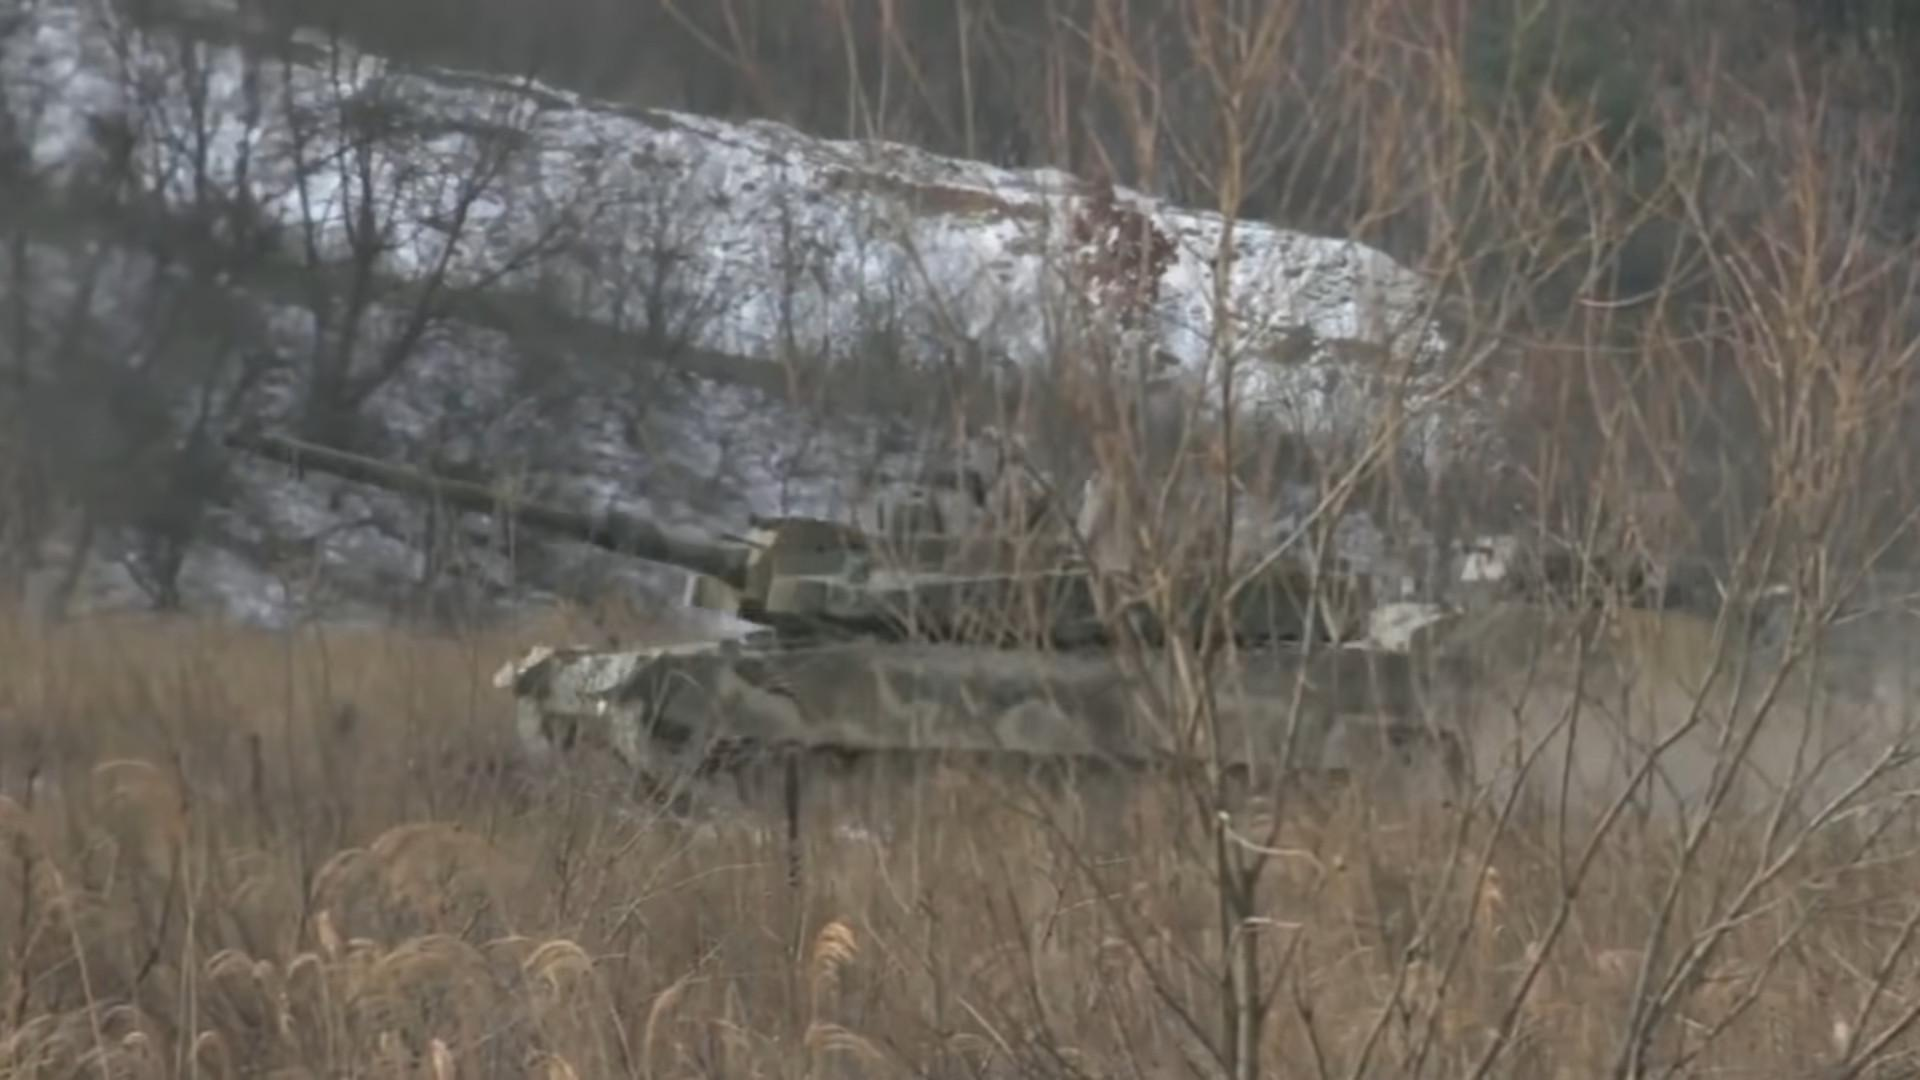tank: (257, 431, 1464, 839)
